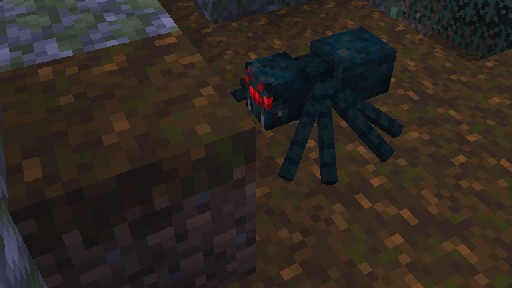cave_spider: (222, 26, 403, 185)
